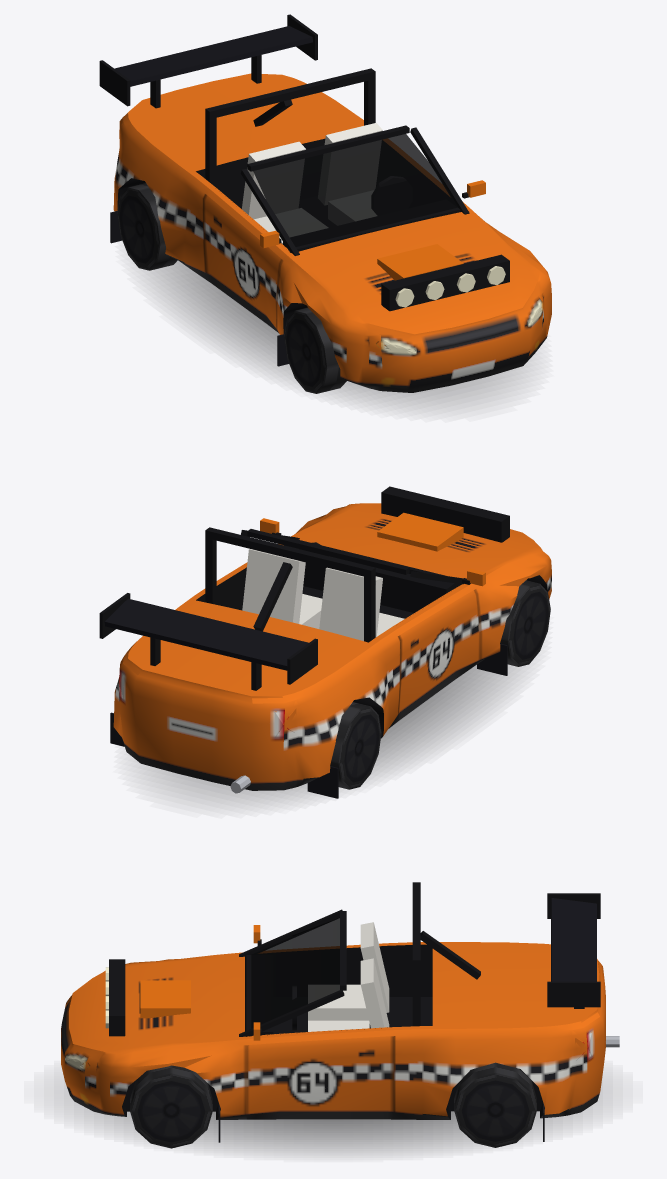
The model's file is procela.glb.
3 renders of one model, top to bottom at view 1: azimuth 30°, elevation 25°; view 2: azimuth 150°, elevation 25°; view 3: azimuth 270°, elevation 25°, orthographic. The views are drawn at different scales.
Visible parts, largest first — view 1: Carroceria, Capo_malha, Tampa_malha, Sombra, Porta_D_malha, Roda_DD, Roda_TD, Porta_E_malha; view 2: Carroceria, Tampa_malha, Capo_malha, Sombra, Porta_D_malha, Roda_TD, Roda_DD, Porta_E_malha; view 3: Carroceria, Tampa_malha, Capo_malha, Porta_E_malha, Sombra, Roda_TE, Roda_DE, Porta_D_malha.
Boxes of the visible parts, x1,y1,x2,y2 form: Carroceria: (99,14,551,392); Capo_malha: (300,218,538,333); Tampa_malha: (114,26,363,168); Sombra: (147,261,523,408); Porta_D_malha: (203,194,282,329); Roda_DD: (284,307,346,393); Roda_TD: (117,183,177,270); Porta_E_malha: (389,146,485,207); Carroceria: (99,503,551,798); Tampa_malha: (104,562,364,703); Capo_malha: (301,486,537,575); Sombra: (143,665,519,803); Porta_D_malha: (398,568,485,713); Roda_TD: (330,702,381,789); Roda_DD: (500,580,550,666); Porta_E_malha: (216,518,287,610); Carroceria: (61,882,619,1142); Tampa_malha: (420,898,599,1030); Capo_malha: (74,956,230,1052); Porta_E_malha: (246,1022,393,1114); Sombra: (64,1079,602,1153); Roda_TE: (454,1062,536,1147); Roda_DE: (130,1065,212,1148); Porta_D_malha: (253,925,393,996).
Bounding box in the file's own units: 2.56 × 1.44 × 4.77.
Materials: 14 (5 with a texture image).
